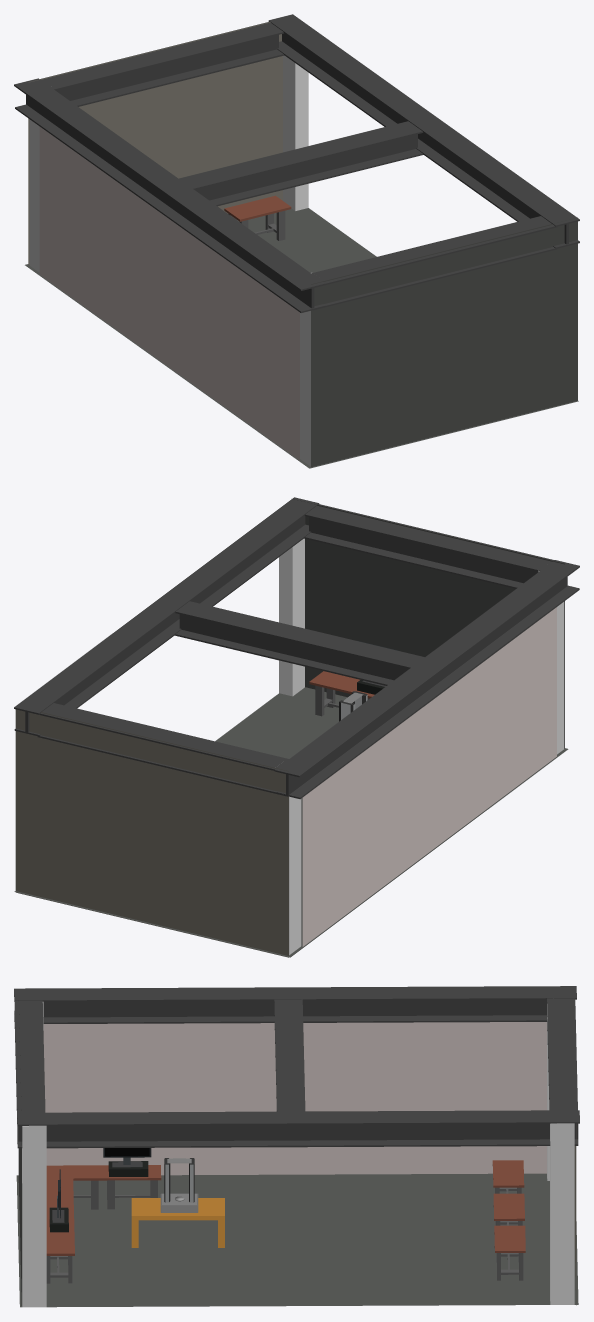
File: escenario-compresion.gltf
The picture shows the model from 3 angles, top to bottom: view 1: azimuth 30°, elevation 25°; view 2: azimuth 150°, elevation 25°; view 3: azimuth 270°, elevation 25°; orthographic projection.
Visible parts, largest first — view 1: Vigas_Amarre, ParedFondo, ParedIzquierda.005, ParedDerecha, Piso, Columna4, Columna2, Colimna3, Mesa.Lab3; view 2: ParedDerecha, Vigas_Amarre, ParedIzquierda.005, ParedFondo, Piso, Columna1, Colimna3, mesa5, Columna2; view 3: Piso, ParedIzquierda.005, Vigas_Amarre, Columna1, Columna4, mesa_compresion, Mesa.Lab3, mesa5, compu, mesa2, Mesa.Lab1, Mesa.Lab2 (+5 smaller).
Boxes of the visible parts, bbox=[...] form: Vigas_Amarre: bbox=[14, 14, 579, 312]; ParedFondo: bbox=[311, 217, 577, 467]; ParedIzquierda.005: bbox=[39, 127, 299, 460]; ParedDerecha: bbox=[28, 22, 282, 264]; Piso: bbox=[25, 208, 578, 468]; Columna4: bbox=[283, 55, 308, 210]; Columna2: bbox=[300, 272, 312, 466]; Colimna3: bbox=[29, 119, 39, 272]; Mesa.Lab3: bbox=[224, 195, 291, 240]; ParedDerecha: bbox=[15, 709, 288, 957]; Vigas_Amarre: bbox=[14, 497, 579, 799]; ParedIzquierda.005: bbox=[302, 607, 556, 946]; ParedFondo: bbox=[293, 499, 564, 748]; Piso: bbox=[14, 687, 568, 957]; Columna1: bbox=[279, 538, 304, 696]; Colimna3: bbox=[275, 767, 301, 955]; mesa5: bbox=[309, 671, 367, 716]; Columna2: bbox=[538, 570, 564, 754]; Piso: bbox=[16, 1173, 578, 1307]; ParedIzquierda.005: bbox=[43, 1022, 546, 1175]; Vigas_Amarre: bbox=[14, 986, 579, 1148]; Columna1: bbox=[22, 1125, 46, 1307]; Columna4: bbox=[550, 1123, 574, 1304]; mesa_compresion: bbox=[131, 1198, 224, 1247]; Mesa.Lab3: bbox=[494, 1225, 525, 1280]; mesa5: bbox=[46, 1228, 74, 1283]; compu: bbox=[103, 1148, 151, 1176]; mesa2: bbox=[46, 1165, 101, 1209]; Mesa.Lab1: bbox=[492, 1160, 524, 1193]; Mesa.Lab2: bbox=[493, 1193, 524, 1225].
Bounding box in the file's own units: 10.57 × 6.51 × 18.15.
